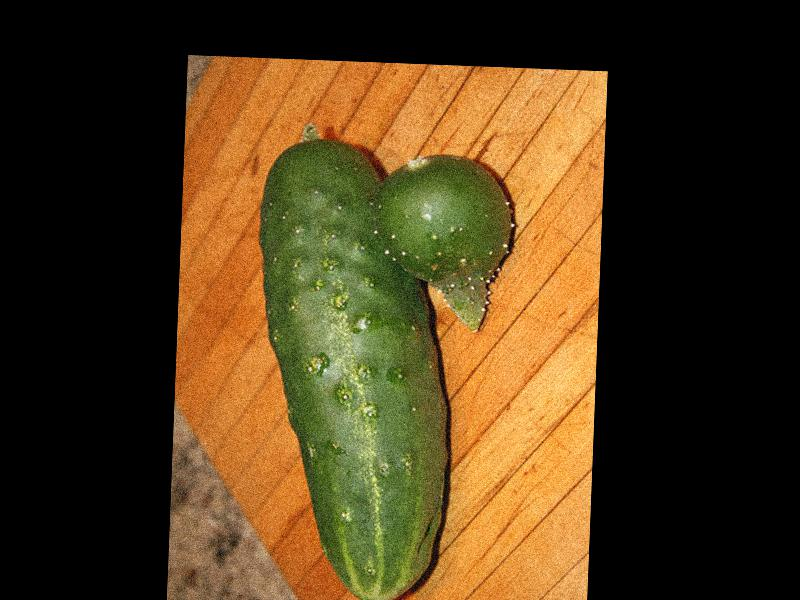Cucumber: (245, 136, 461, 600)
